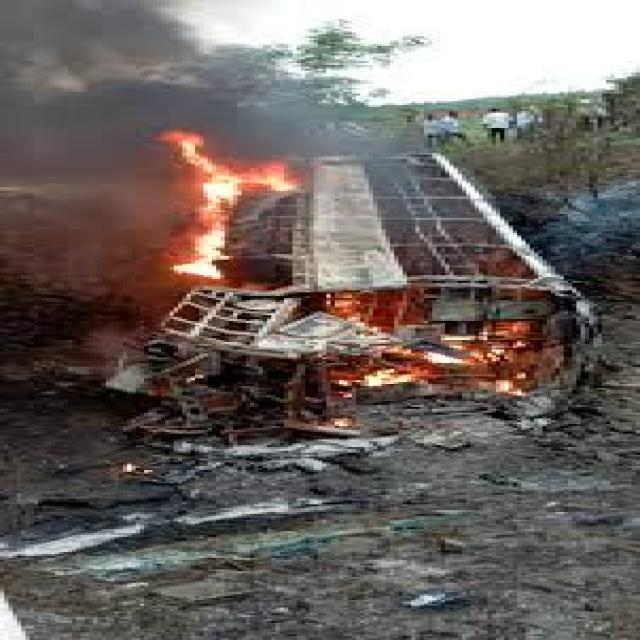fire: (322, 292, 547, 405), (157, 128, 297, 287)
smoke: (5, 2, 432, 183)
